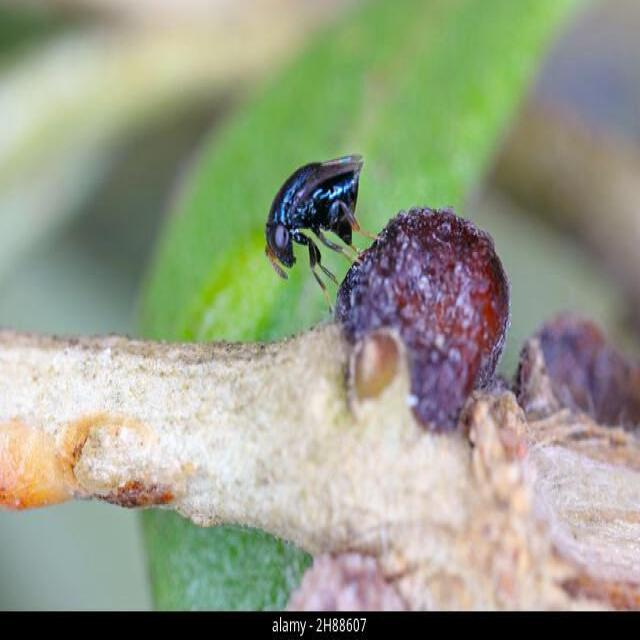Black Scale: (336, 208, 509, 430)
